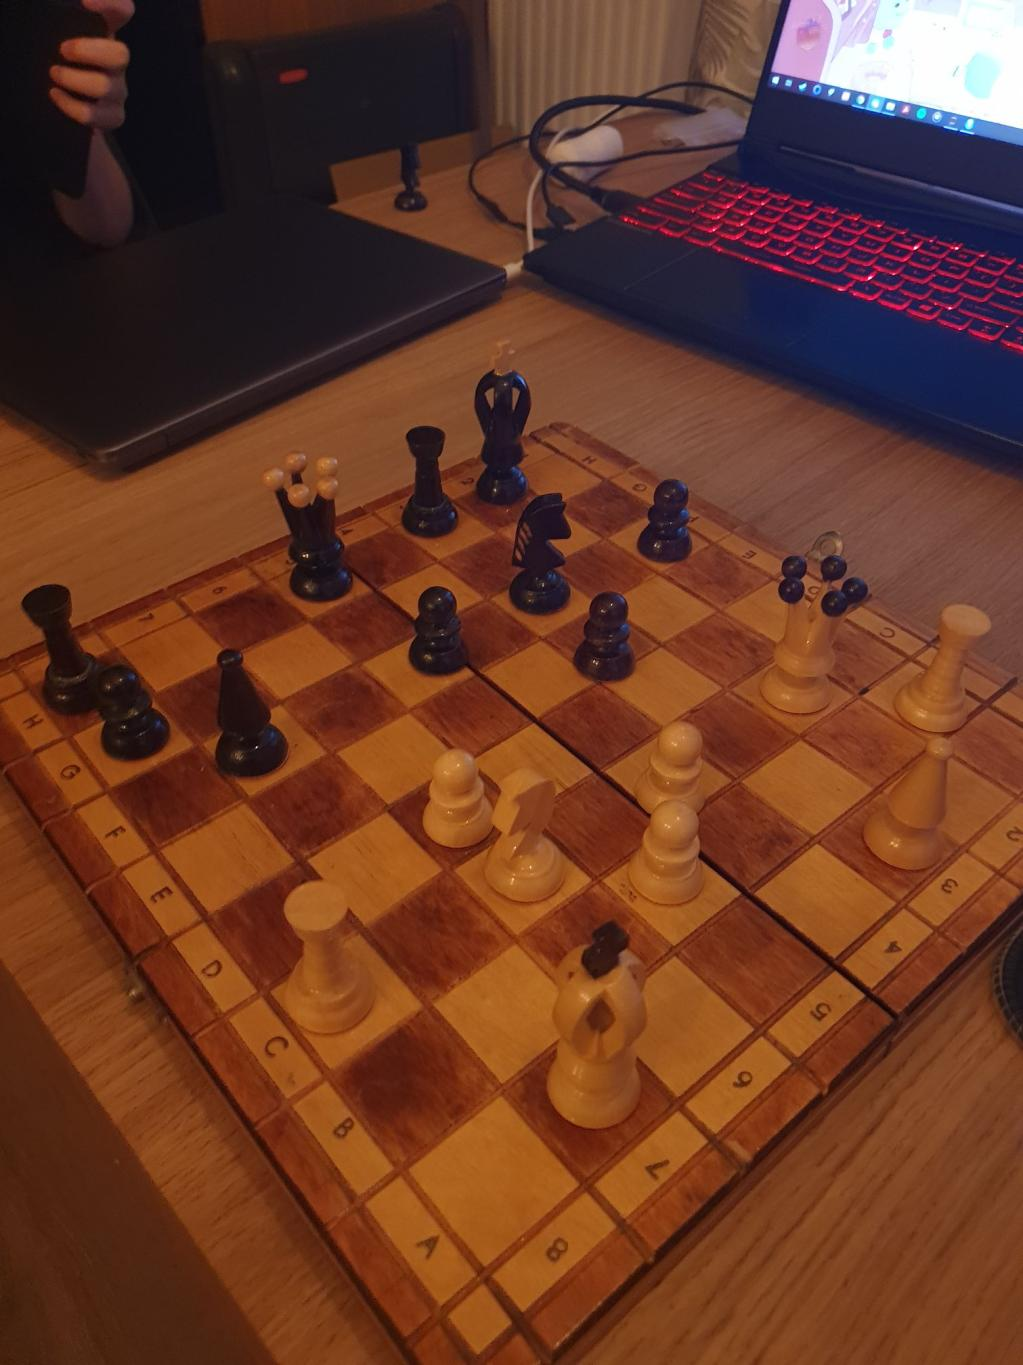bbishop: (211, 647, 290, 780)
bking: (471, 340, 530, 514)
bknight: (507, 492, 574, 614), (393, 135, 426, 216)
bpawn: (93, 664, 172, 761), (571, 584, 636, 687), (634, 475, 695, 570), (408, 584, 467, 680)
bqueen: (258, 442, 359, 610)
brook: (19, 580, 116, 716), (400, 420, 461, 541)
wbishop: (860, 735, 960, 880)
wking: (541, 920, 652, 1137)
wknight: (480, 765, 568, 905)
wpawn: (624, 794, 709, 911), (419, 748, 501, 852), (633, 720, 709, 823)
wqueen: (758, 549, 869, 721)
wrook: (278, 873, 380, 1035), (887, 600, 994, 736)
